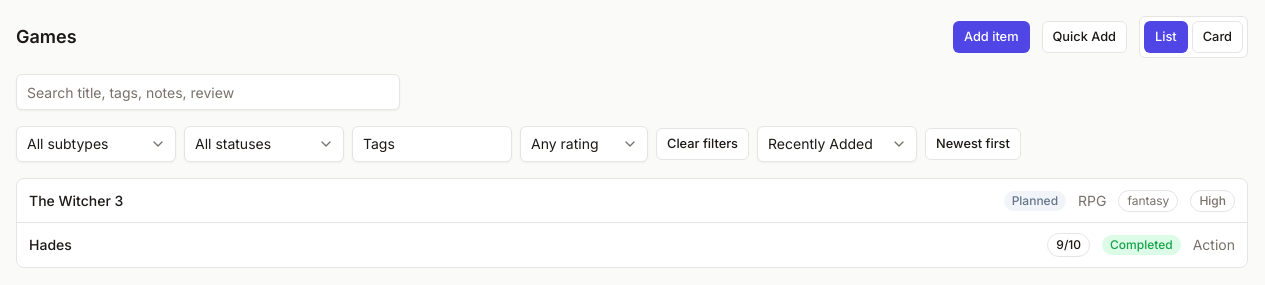
Test case: LibraryView › switching sort dimension resets the direction label to the new dimension's own default, not the previous dimension's toggled state
// Toggle Recently Added to its non-default state first.
Click the button with aria-label "Sort direction" at {"x": 973, "y": 144}, box [925,128,1021,160]
Wait 300 ms
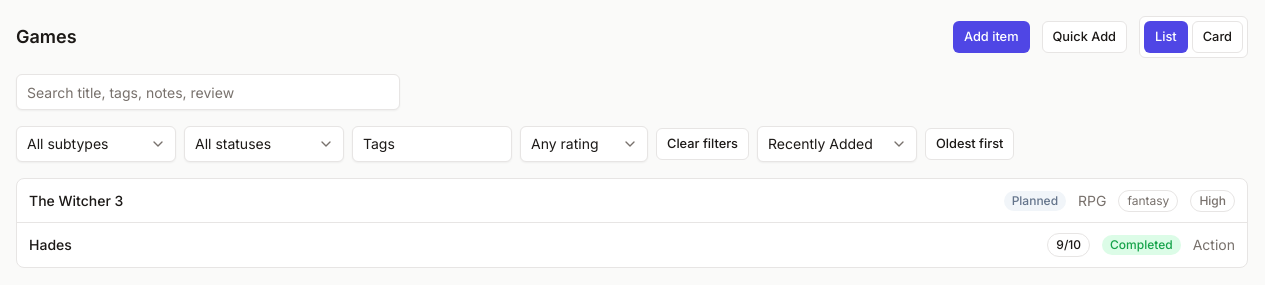
Now the button with aria-label "Sort direction" reads "Oldest first", box [925,128,1014,160]
Select "Rating" in the dropdown named "Sort" at {"x": 837, "y": 144}, box [757,126,917,162]
Wait 300 ms
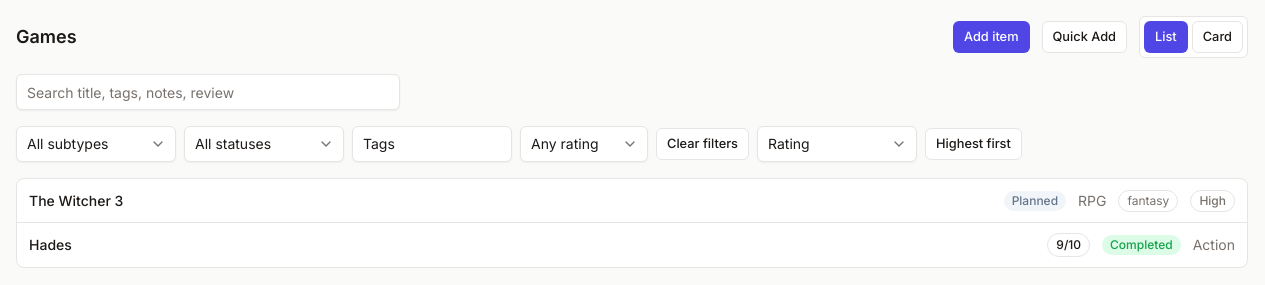
Now the button with aria-label "Sort direction" reads "Highest first", box [925,128,1022,160]
